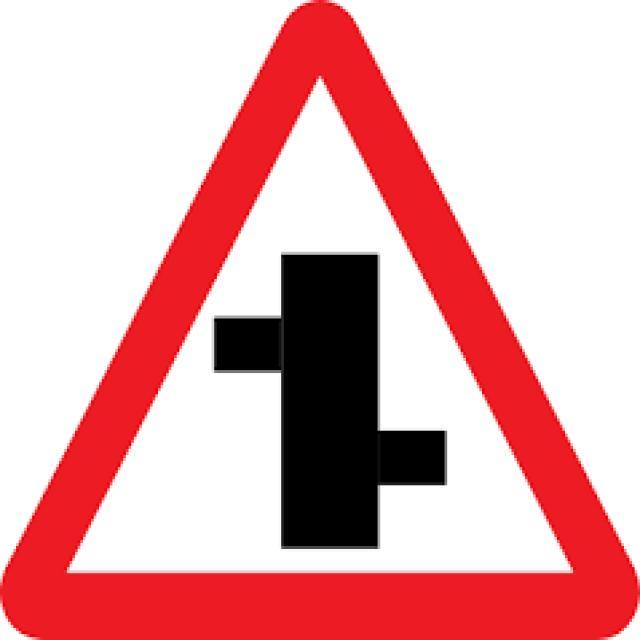staggered intersection: (13, 12, 619, 624)
